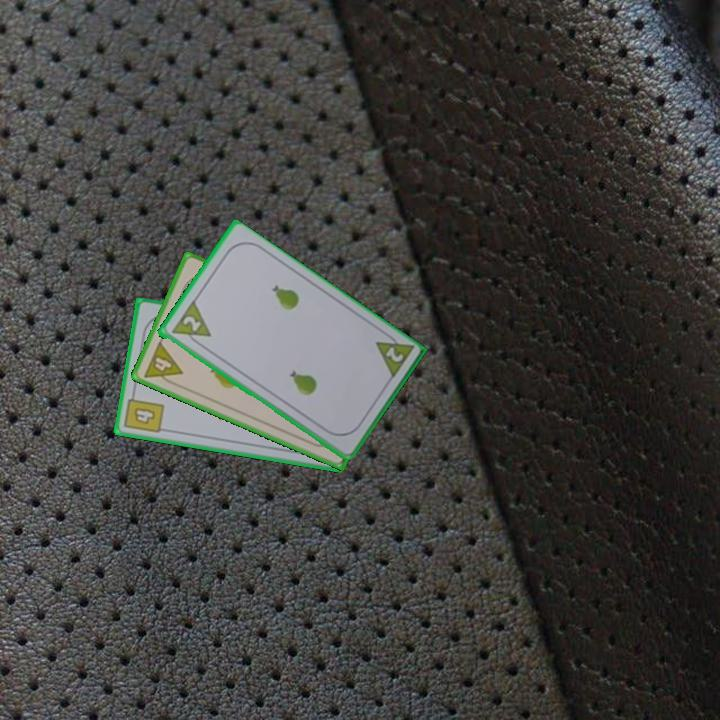2p: (167, 298, 214, 351), (371, 328, 416, 383)
4b: (121, 388, 167, 436)
4p: (140, 338, 185, 389)
